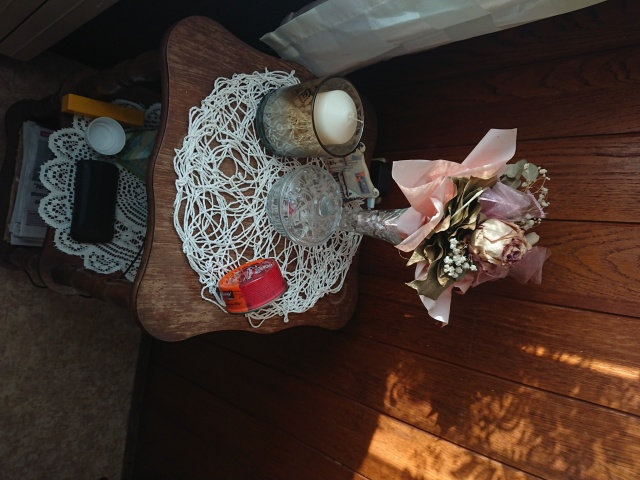Gavrilovic Pork Liver Pate 100g: (215, 255, 290, 314)
